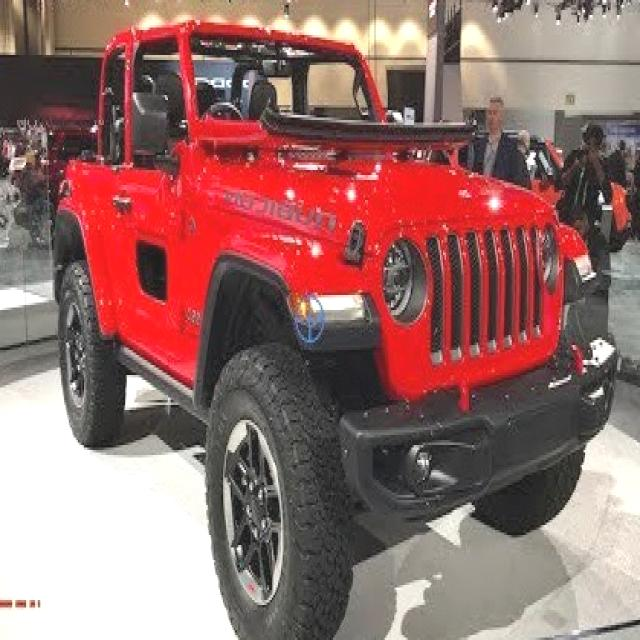red: (57, 18, 609, 513)
